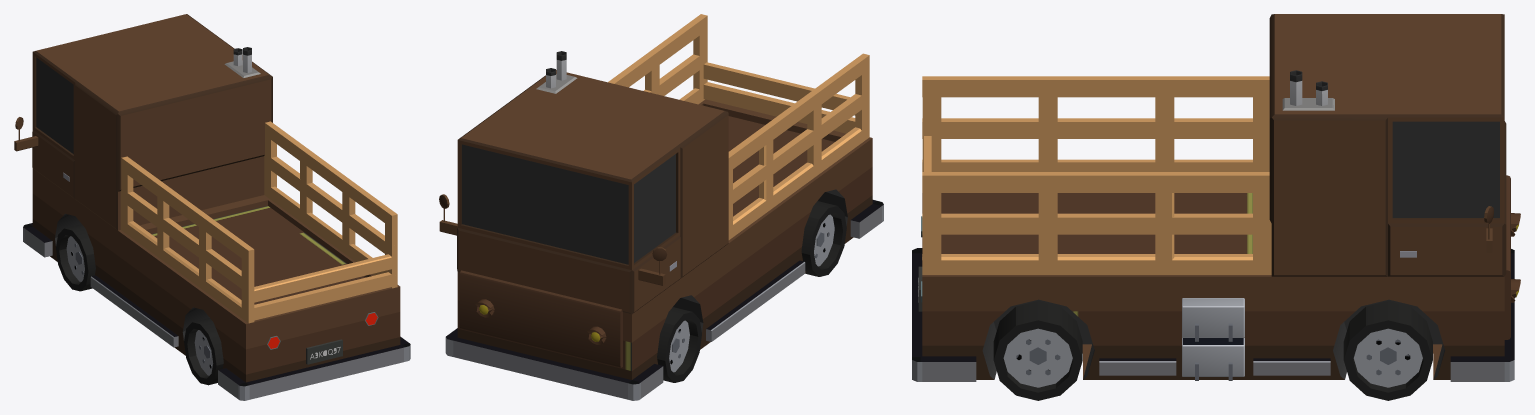
Rendered from Truck_Brown.fbx.
3 renders of one model, left to right at view 1: azimuth 30°, elevation 25°; view 2: azimuth 150°, elevation 25°; view 3: azimuth 270°, elevation 25°, orthographic. The views are drawn at different scales.
Parts seen in each view (by area): view 1: Truck.016, Truck.008, Truck.118, Truck.119, Truck.110, Truck.109, Truck.111, Truck.001, Truck.002, Truck.112, Truck.113, Truck.120 (+11 smaller); view 2: Truck.016, Truck.102, Truck.009, Truck.002, Truck.111, Truck.001, Truck.112, Truck.113, Truck.109, Truck.118, Truck.110, Truck.005 (+9 smaller); view 3: Truck.016, Truck.111, Truck.003, Truck.004, Truck.112, Truck.118, Truck.119, Truck.120, Truck.113, Truck.008, Truck.013, Truck.010 (+14 smaller).
Boxes of the visible parts, x1,y1,x2,y2 form: Truck.016: (32,14,400,382); Truck.008: (218,336,410,400); Truck.118: (265,121,397,228); Truck.119: (264,154,397,258); Truck.110: (254,272,391,320); Truck.109: (254,254,391,302); Truck.111: (121,156,254,262); Truck.001: (56,224,95,291); Truck.002: (184,318,223,385); Truck.112: (127,191,254,293); Truck.113: (127,221,254,323); Truck.120: (264,183,397,288); Truck.016: (457,70,872,379); Truck.102: (459,270,622,367); Truck.009: (445,328,663,400); Truck.002: (801,201,846,276); Truck.111: (728,53,869,168); Truck.001: (657,307,701,382); Truck.112: (733,94,861,203); Truck.113: (733,127,861,236); Truck.109: (703,62,855,115); Truck.118: (608,14,707,87); Truck.110: (703,82,855,133); Truck.005: (706,260,805,341); Truck.016: (922,14,1506,379); Truck.111: (922,76,1269,97); Truck.003: (993,301,1082,400); Truck.004: (1343,301,1432,400); Truck.112: (922,118,1269,138); Truck.118: (922,172,1269,192); Truck.119: (922,213,1252,234); Truck.120: (922,254,1252,274); Truck.113: (922,159,1269,171); Truck.008: (912,248,976,381); Truck.013: (1182,298,1244,337); Truck.010: (1182,337,1244,376).
Size of the model in its own units: 825 by 902 by 1579.
Materials: 1 (1 with a texture image).
